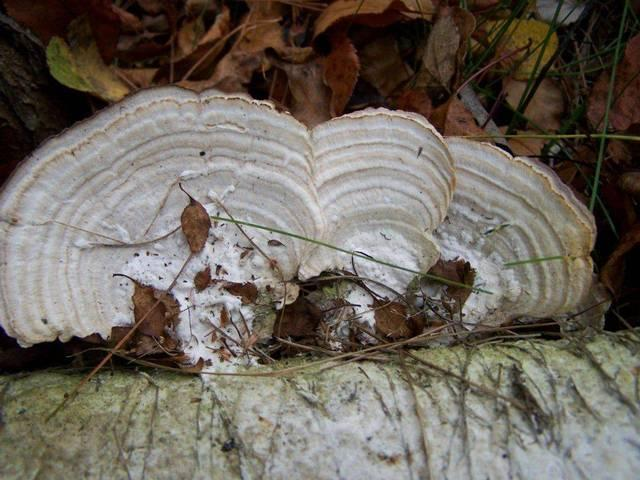Non-edible Mushroom: (0, 83, 603, 358)
